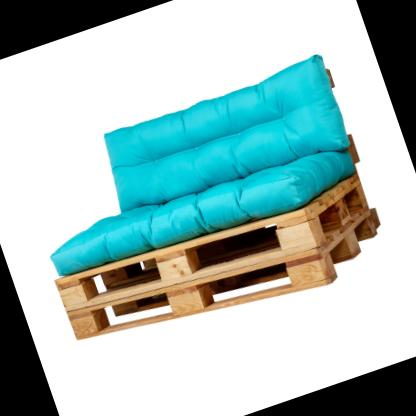BoxFace: (64, 207, 389, 349), (54, 171, 370, 310)
